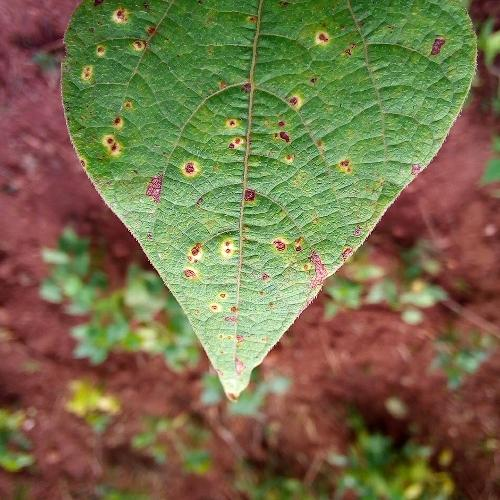hawar: (126, 18, 350, 208), (154, 221, 346, 368), (123, 0, 175, 56), (90, 109, 136, 161), (428, 31, 454, 59), (401, 154, 430, 179)
